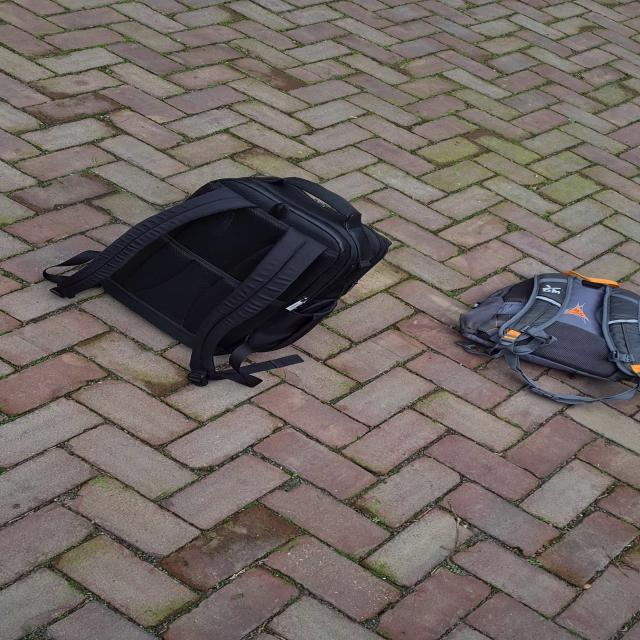backpack: (70, 168, 402, 364), (447, 267, 638, 381)
